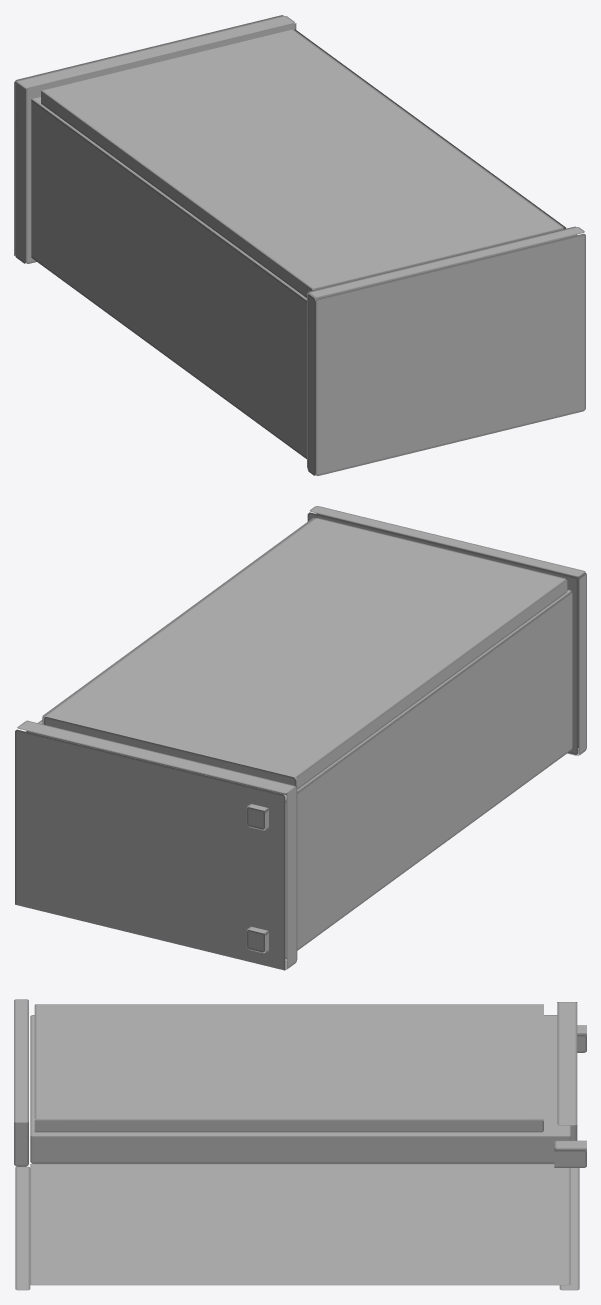
The model's file is pz_wardrobe_storage_02_white_0_0.obj.
3 renders of one model, top to bottom at view 1: azimuth 30°, elevation 25°; view 2: azimuth 150°, elevation 25°; view 3: azimuth 270°, elevation 25°, orthographic. The views are drawn at different scales.
Size of the model in its own units: 0.995 by 0.625 by 1.94.
1 material, 1 textured.
